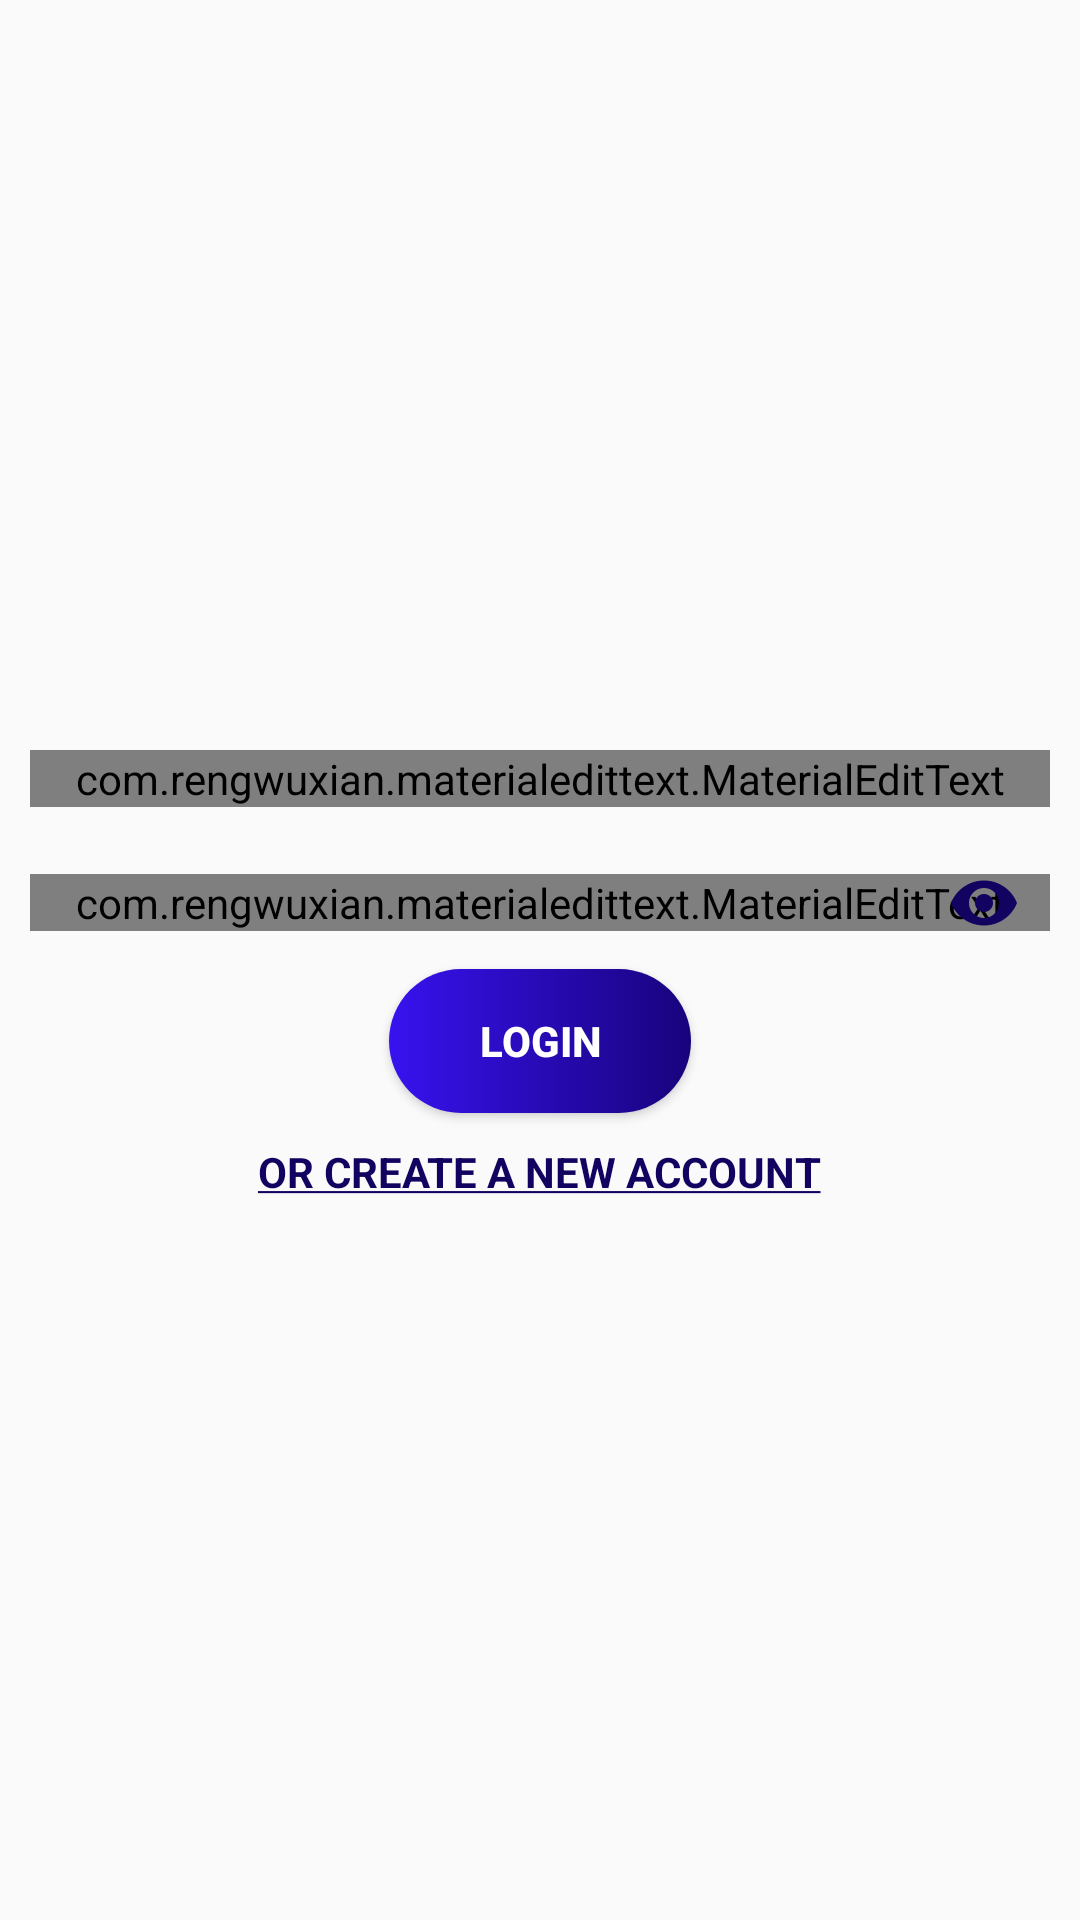

Icon click points for this 1080*1920 phone screenshot, format point (x, y):
visibility: point (984, 902)
